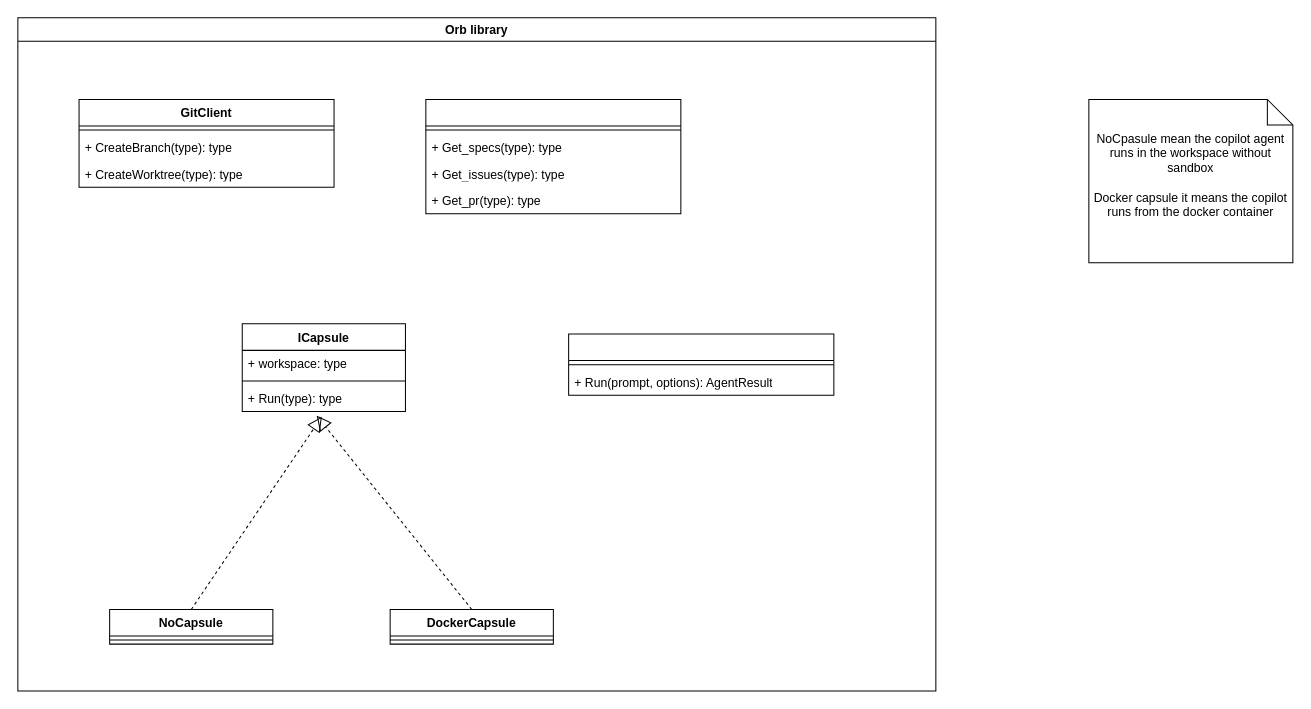
This 1311x709 diagram has some shape labels left out. Here are the shapes that lost their labels. From the top down, the box of each, then its label:
(425, 98, 681, 214): GitHubClient
(568, 333, 834, 395): IAgentClient
